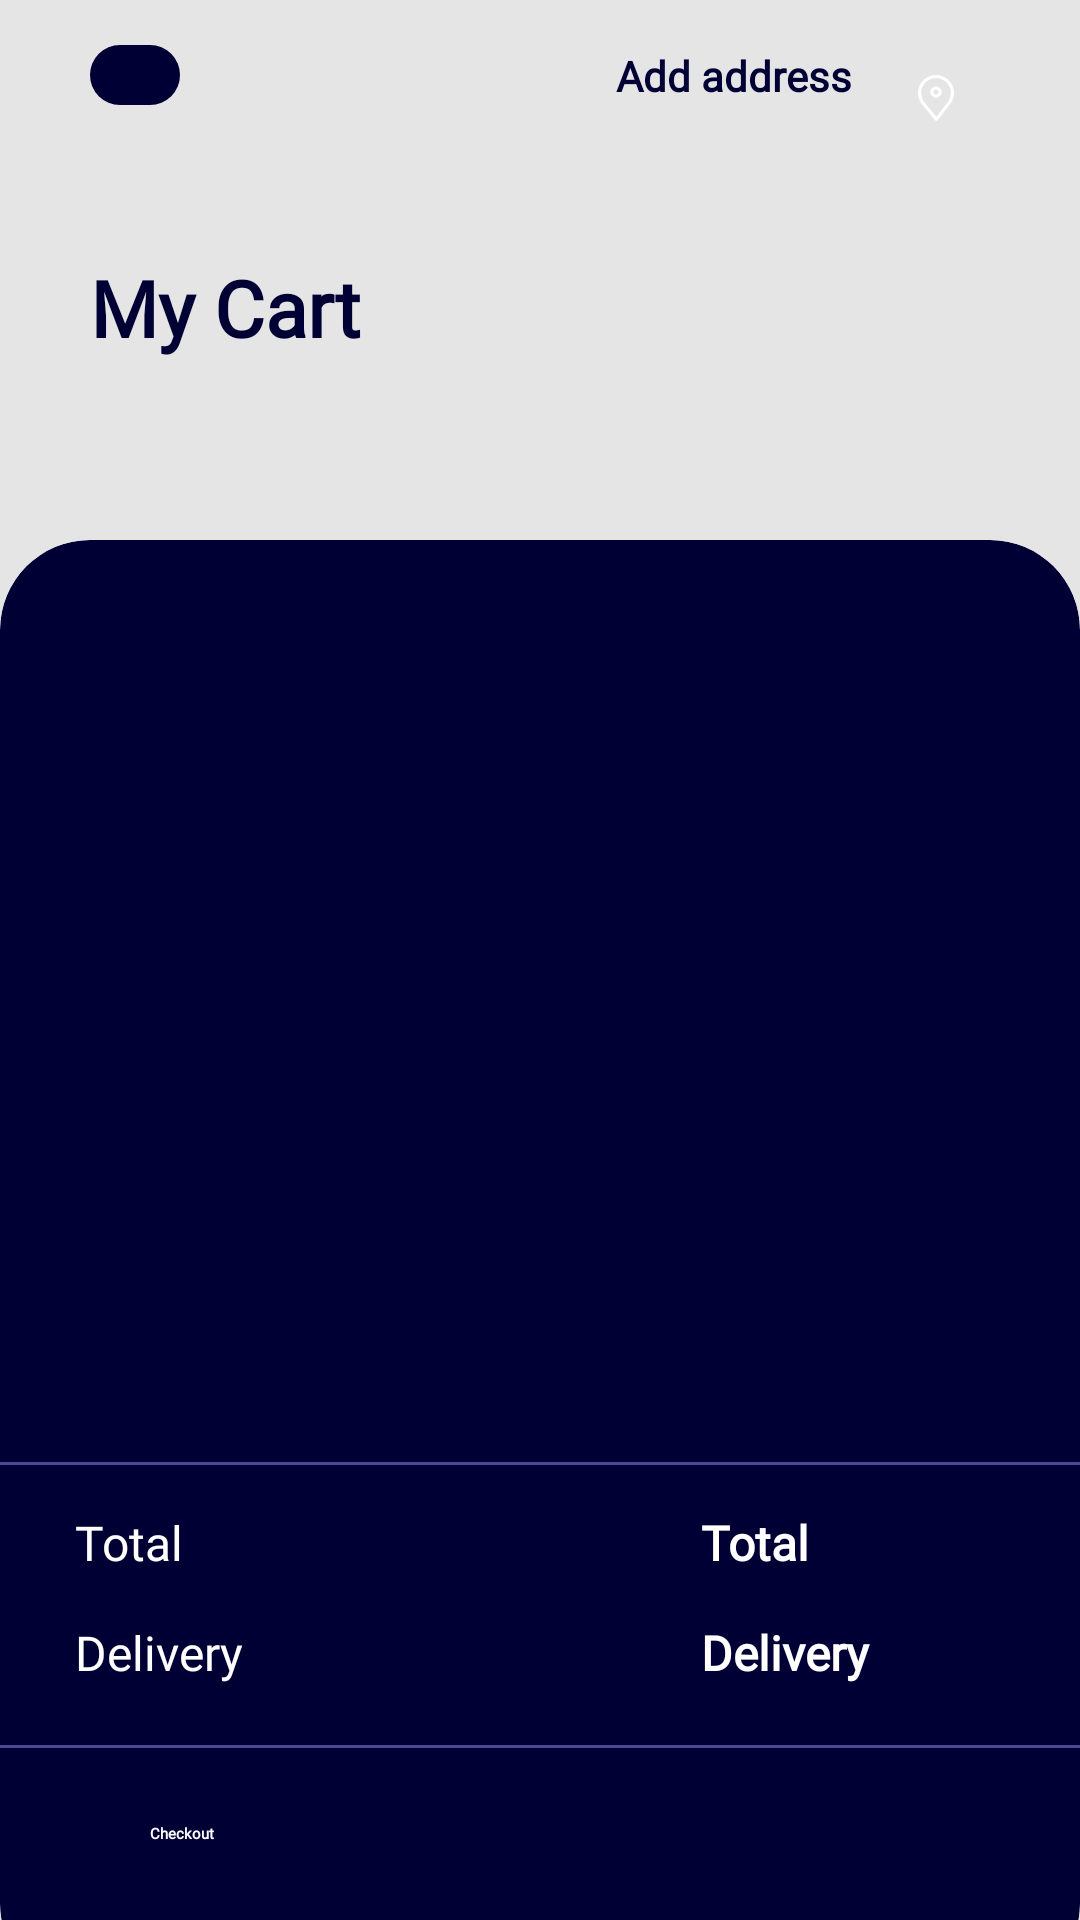

Screen size 1080x1920. Icon name, then its center in pixels as (x,y):
geo: (936,97)
